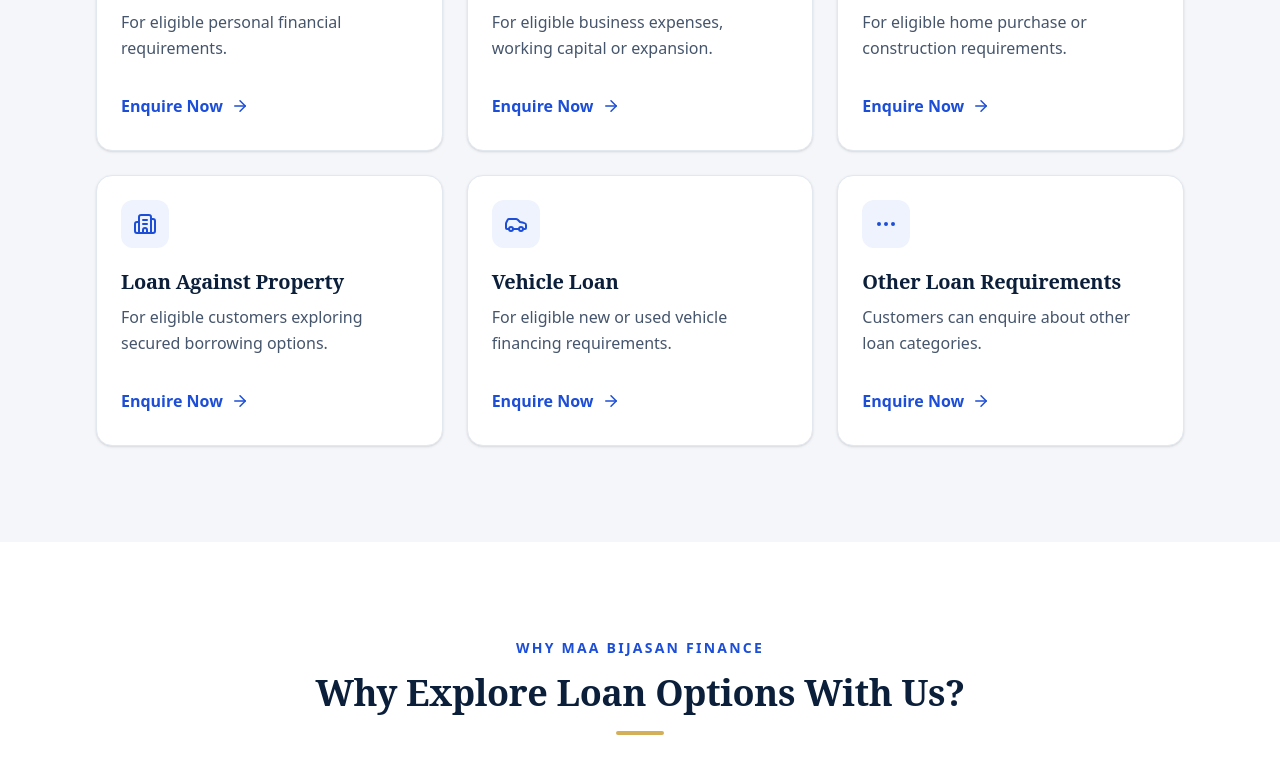
Scenario: Loan category -> form preselection › 'Enquire Now' on Loan Against Property preselects the loan type and scrolls to the form
This screenshot has width=1280, height=760.
(page scrolled)
Click the button "Enquire Now" below "Loan Against Property". click: (185, 401)
box: [121,381,249,421]
(page scrolled)
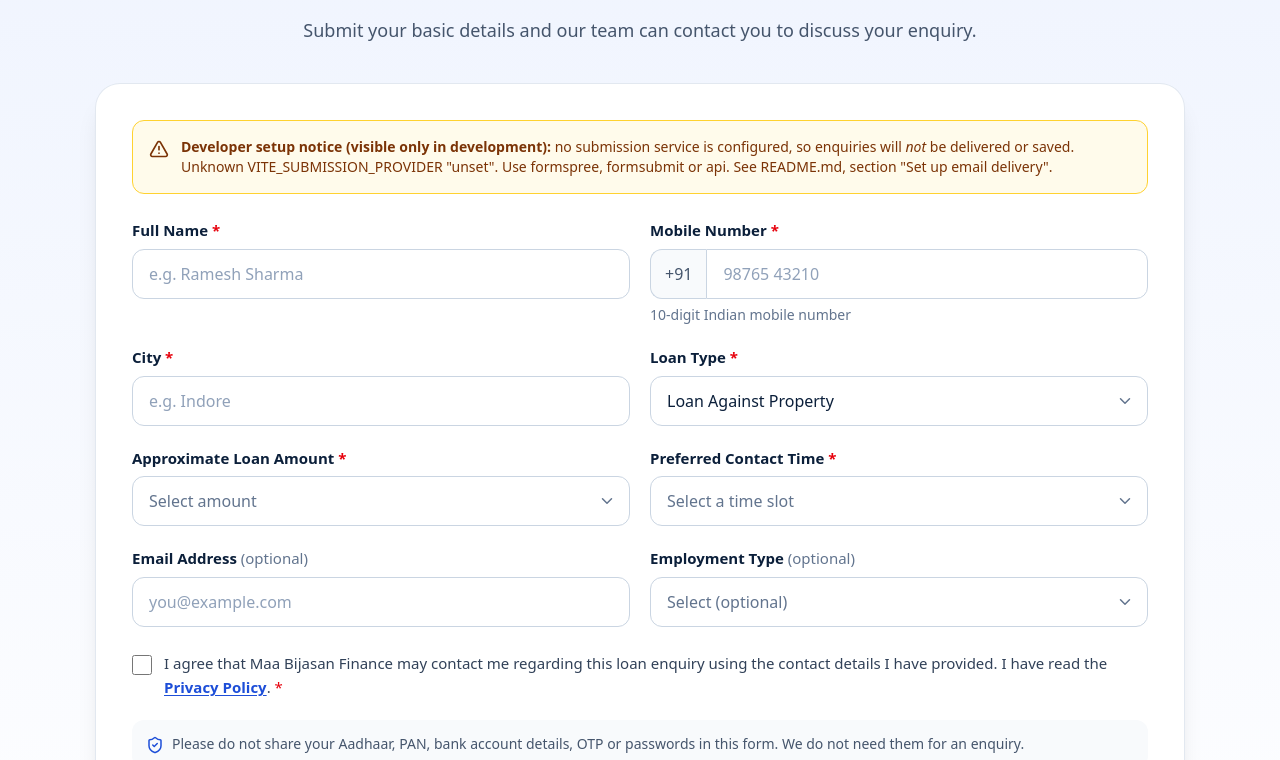
Now the dropdown labelled "Loan Type *" shows "Loan Against Property", box [650,376,1148,426]
